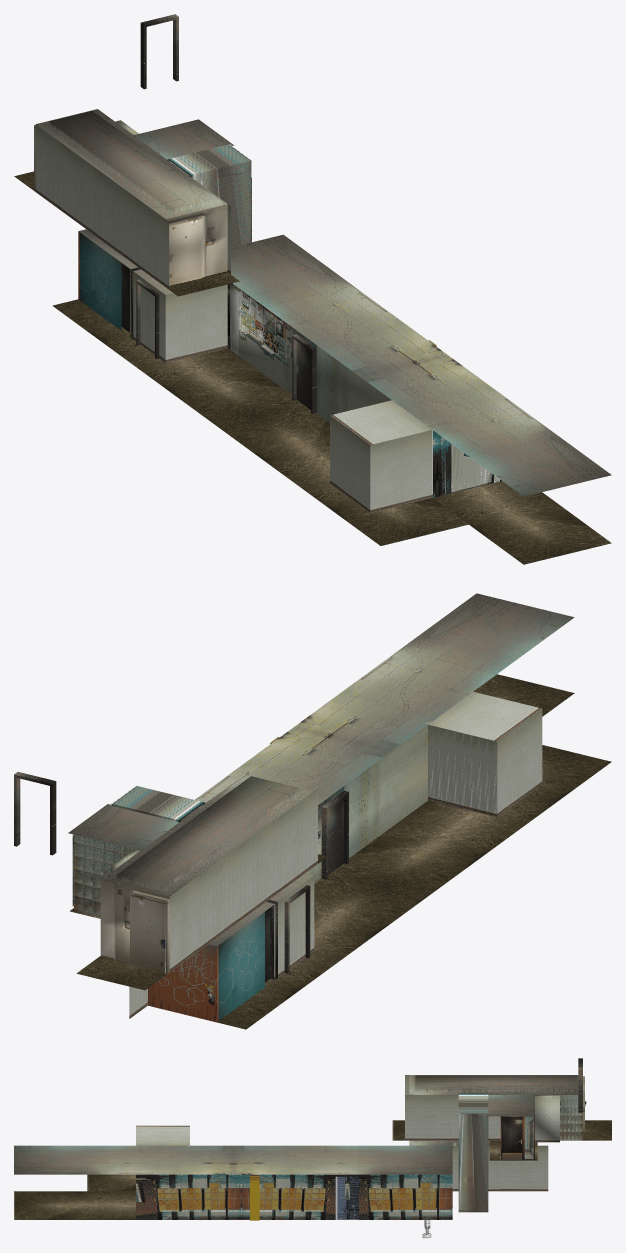
Rendered from geheelapartement.fbx.
3 renders of one model, top to bottom at view 1: azimuth 30°, elevation 25°; view 2: azimuth 150°, elevation 25°; view 3: azimuth 270°, elevation 25°, orthographic. The views are drawn at different scales.
Parts seen in each view (by area): view 1: Floor_3x3.092, Floor_3x3.056, Floor_3x3.088, Floor_3x3.087, Floor_3x3.090, Floor_3x3.086, Floor_3x3.058, Floor_3x3.094, Floor_3x3.064, Floor_3x3.073, Cube.713, Floor_3x3.059 (+15 smaller); view 2: Floor_3x3.092, Floor_3x3.088, Floor_3x3.090, Floor_3x3.087, Floor_3x3.058, Floor_3x3.056, Floor_3x3.093, Floor_3x3.059, Floor_3x3.060, Floor_3x3.095, Floor_3x3.085, Floor_3x3.077 (+17 smaller); view 3: Floor_3x3.056, Floor_3x3.092, Floor_3x3.081, Floor_3x3.062, Floor_3x3.063, Cube.713, Floor_3x3.086, Floor_3x3.090, Floor_3x3.072, Floor_3x3.069, Cube.699, Floor_3x3.078 (+12 smaller).
Part boxes in pixels (<box>): Floor_3x3.092: <box>360,355,611,496</box>; Floor_3x3.056: <box>231,234,447,376</box>; Floor_3x3.088: <box>217,404,468,545</box>; Floor_3x3.087: <box>52,299,302,425</box>; Floor_3x3.090: <box>36,109,227,218</box>; Floor_3x3.086: <box>433,481,611,564</box>; Floor_3x3.058: <box>227,283,391,422</box>; Floor_3x3.094: <box>370,430,432,512</box>; Floor_3x3.064: <box>165,284,227,362</box>; Floor_3x3.073: <box>166,204,227,286</box>; Cube.713: <box>167,144,251,247</box>; Floor_3x3.059: <box>78,231,121,330</box>; Floor_3x3.092: <box>294,593,574,750</box>; Floor_3x3.088: <box>332,745,611,895</box>; Floor_3x3.090: <box>101,774,313,896</box>; Floor_3x3.087: <box>217,872,428,1029</box>; Floor_3x3.058: <box>306,725,427,883</box>; Floor_3x3.056: <box>195,727,391,804</box>; Floor_3x3.093: <box>428,724,497,817</box>; Floor_3x3.059: <box>217,912,264,1021</box>; Floor_3x3.060: <box>148,944,216,1022</box>; Floor_3x3.095: <box>497,709,542,816</box>; Floor_3x3.085: <box>100,880,169,973</box>; Floor_3x3.077: <box>198,847,238,951</box>; Floor_3x3.056: <box>233,1145,452,1174</box>; Floor_3x3.092: <box>14,1145,233,1174</box>; Floor_3x3.081: <box>136,1174,241,1219</box>; Floor_3x3.062: <box>347,1174,452,1219</box>; Floor_3x3.063: <box>241,1174,347,1219</box>; Cube.713: <box>458,1093,488,1212</box>; Floor_3x3.086: <box>14,1191,135,1219</box>; Floor_3x3.090: <box>409,1075,578,1094</box>; Floor_3x3.072: <box>405,1095,452,1140</box>; Floor_3x3.069: <box>500,1145,548,1191</box>; Cube.699: <box>500,1116,534,1160</box>; Floor_3x3.078: <box>535,1095,559,1142</box>.
Bounding box in the file's own units: 603 × 874 × 2611.
